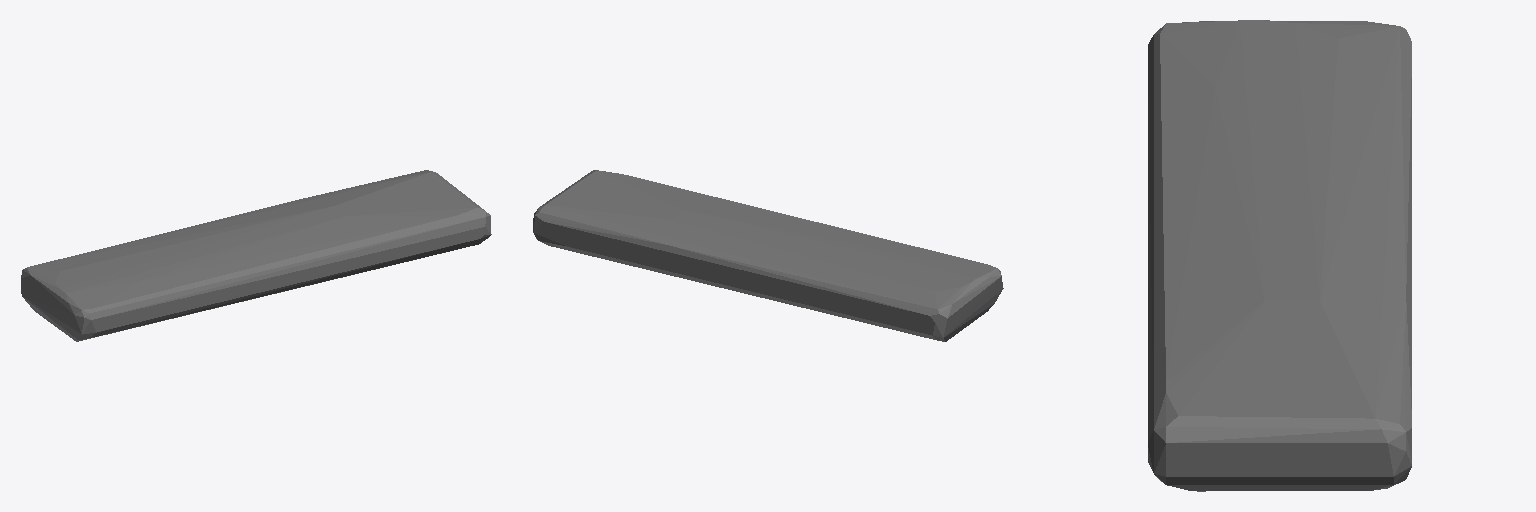
robot.urdf — remote_009:
<?xml version="1.0" ?>
<robot name="remote_009">
  <material name="color">
    <color rgba=".5 .5 .5 1"/>
  </material>

  <link name="base_link">
    <contact>
      <lateral_friction value="1.0"/>
      <rolling_friction value="0.001"/>
      <spinning_friction value="0.001"/>
      <inertia_scaling value="1.0"/>
    </contact>
    <inertial>
      <origin rpy="0 0 0" xyz="-0.000136542 -2.21033e-05 0.00229403"/>
       <mass value="0.1"/>
       <inertia ixx="1" ixy="0" ixz="0" iyy="1" iyz="0" izz="1"/>
    </inertial>

    <visual>
      <origin rpy="0 0 0" xyz="0 0 0"/>
      <geometry>
        <mesh filename="remote_009_vhacd_0_of_1.obj" scale="1 1 1"/>
      </geometry>
      <material name="color"/>
    </visual>

    <collision>
      <origin rpy="0 0 0" xyz="0 0 0"/>
      <geometry>
        <mesh filename="remote_009_vhacd_0_of_1.obj" scale="1 1 1"/>
      </geometry>
    </collision>

  </link>
</robot>

--- Facts derived from the render (not from the file) ---
Views: 3 orthographic renders of the robot side by side, from view 1: azimuth 30°, elevation 25°; view 2: azimuth 150°, elevation 25°; view 3: azimuth 270°, elevation 25°.
Model remote_009 with 1 links and 0 joints (none), rooted at base_link, posed every joint at zero.
Visible links, largest first — view 1: base_link; view 2: base_link; view 3: base_link.
Boxes of the visible links, box(x1,y1,x2,y2) form: base_link: box(21, 170, 491, 341); base_link: box(533, 170, 1003, 341); base_link: box(1148, 20, 1411, 491).
Size in the robot's own frame: 0.1817 by 0.0491 by 0.0183 metres.
Meshes: 1 distinct files referenced, 1 mesh visuals loaded (1 OBJ).